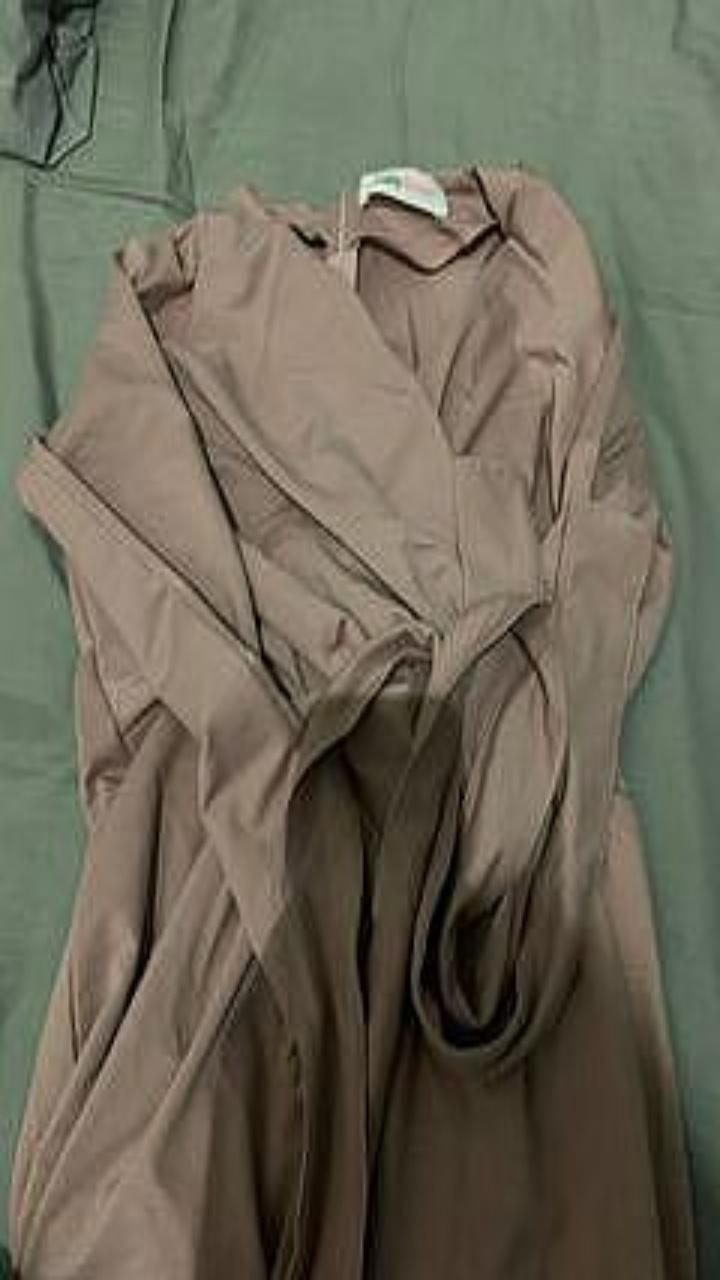Coat: (10, 166, 694, 1279)
